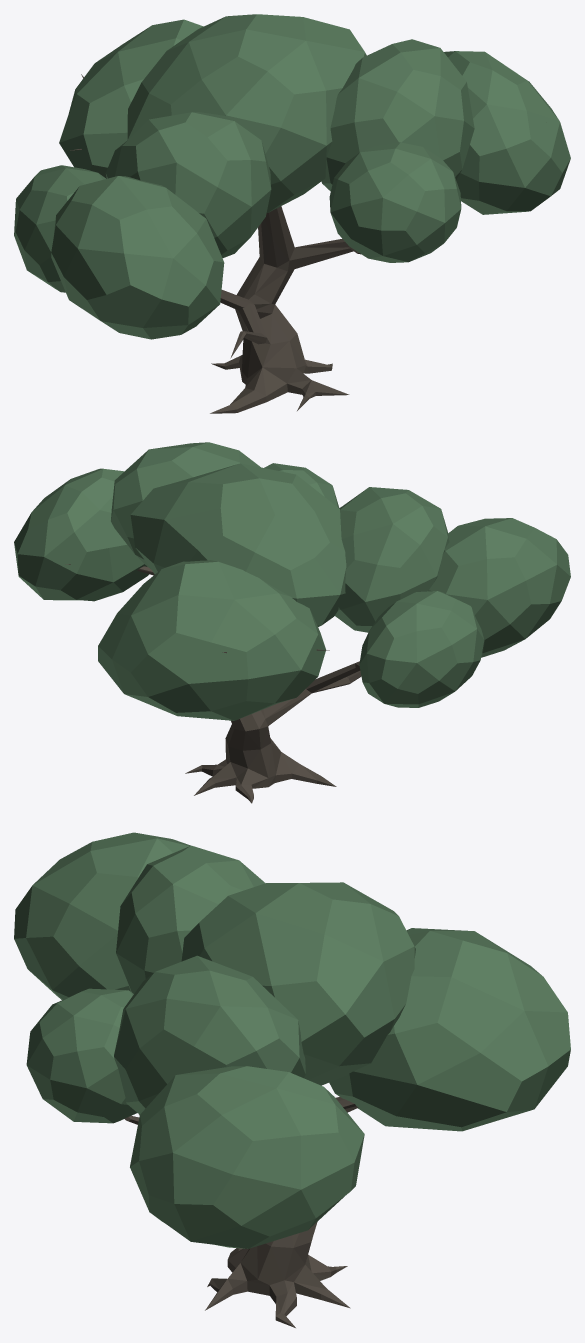
File: BigTree.fbx
3 renders of one model, top to bottom at view 1: azimuth 30°, elevation 25°; view 2: azimuth 150°, elevation 25°; view 3: azimuth 270°, elevation 25°, orthographic. The views are drawn at different scales.
Visible parts, largest first — view 1: pPlatonic12; view 2: pPlatonic12; view 3: pPlatonic12.
Part boxes in pixels (x1,y1,x2,y2): pPlatonic12: [14, 14, 570, 413]; pPlatonic12: [14, 442, 570, 803]; pPlatonic12: [14, 832, 570, 1327].
Size of the model in its own units: 1317 by 834 by 1054.
